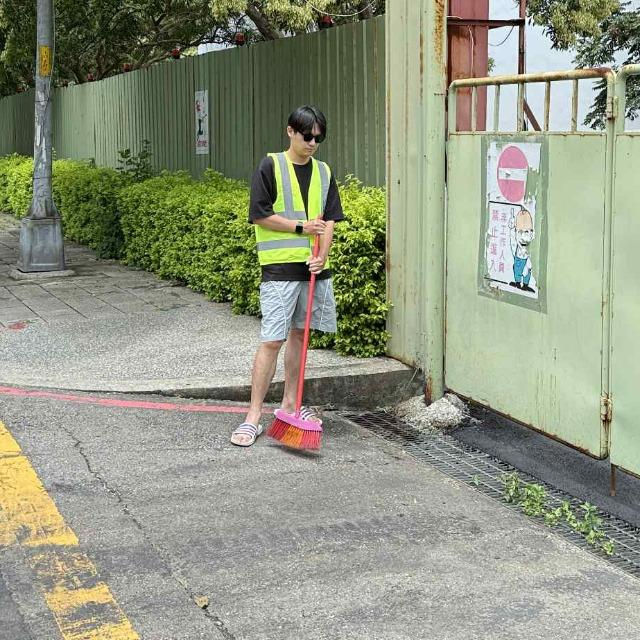NoHelmet: (288, 100, 332, 160)
Vest: (250, 154, 346, 280)
